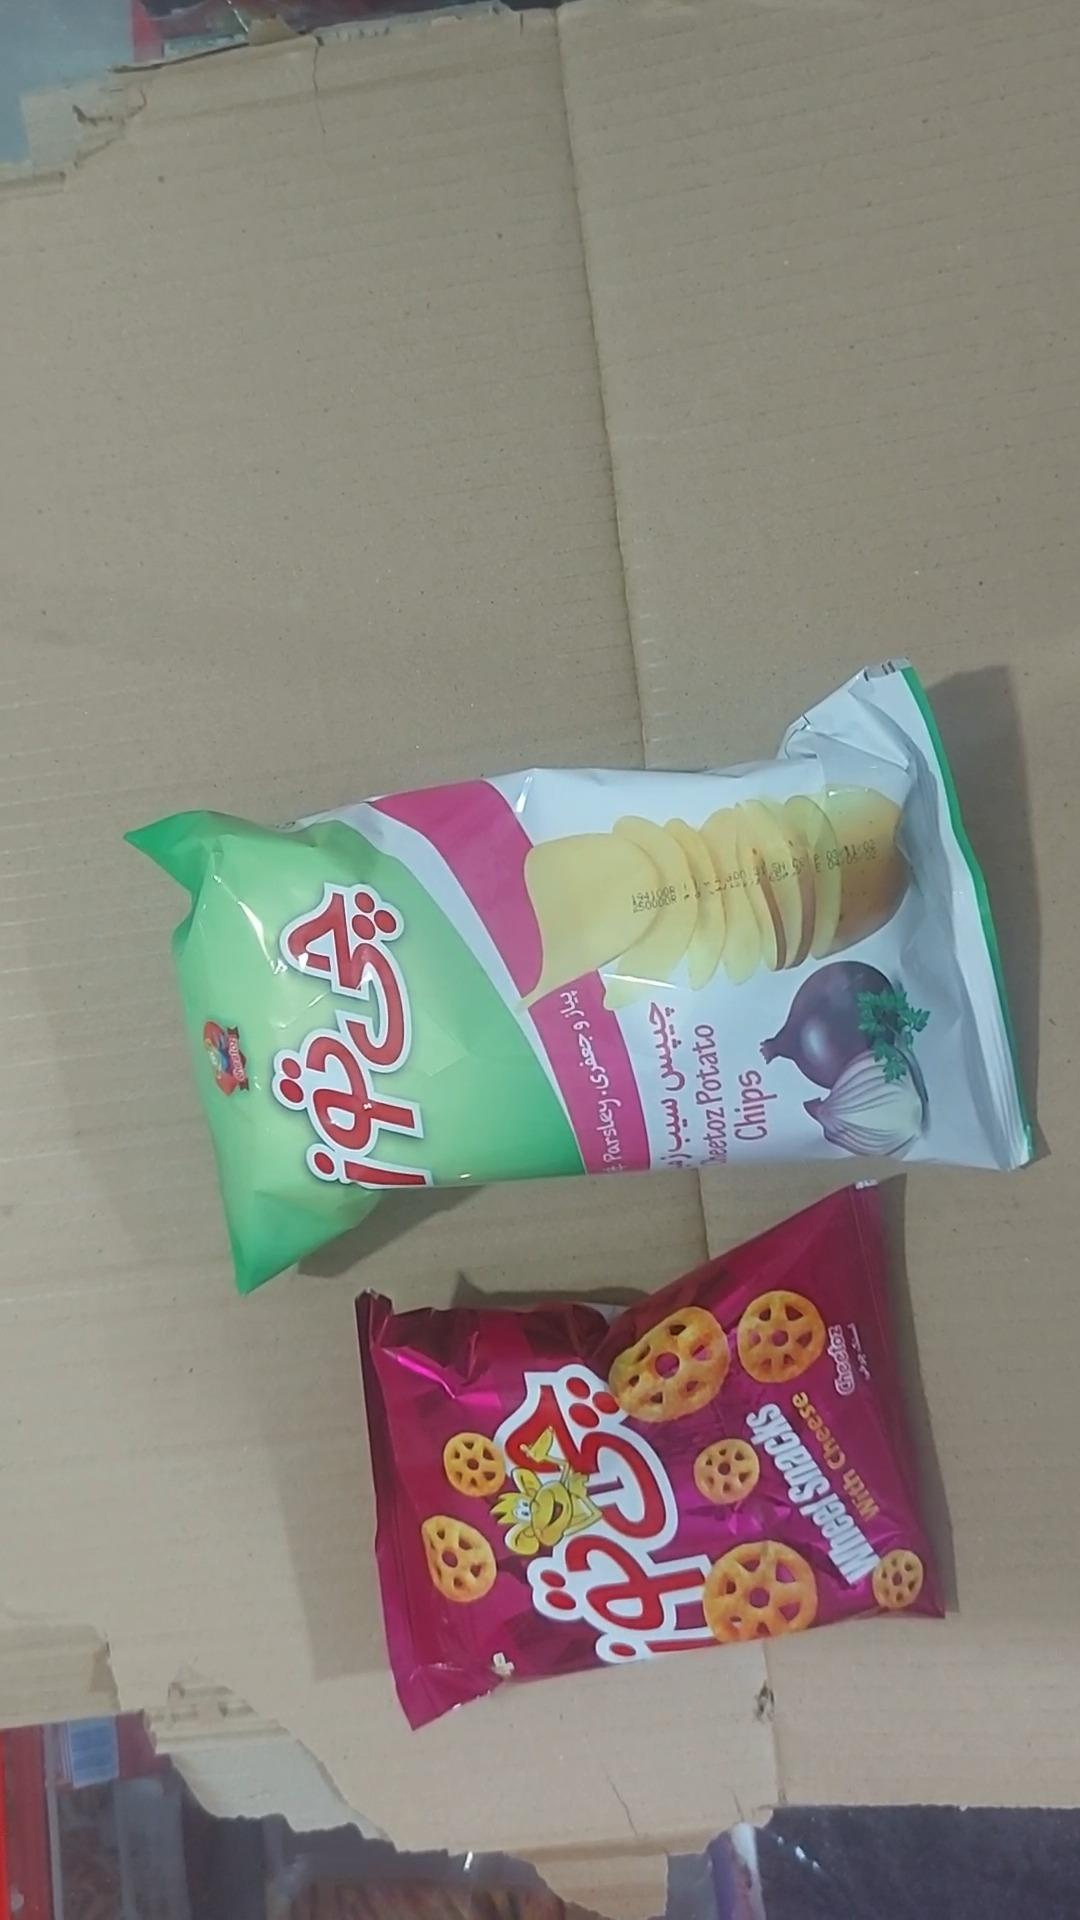Cheetoz onion and parsley chips: (123, 659, 1042, 1298)
Cheetoz wheelsnack: (353, 1184, 945, 1734)
